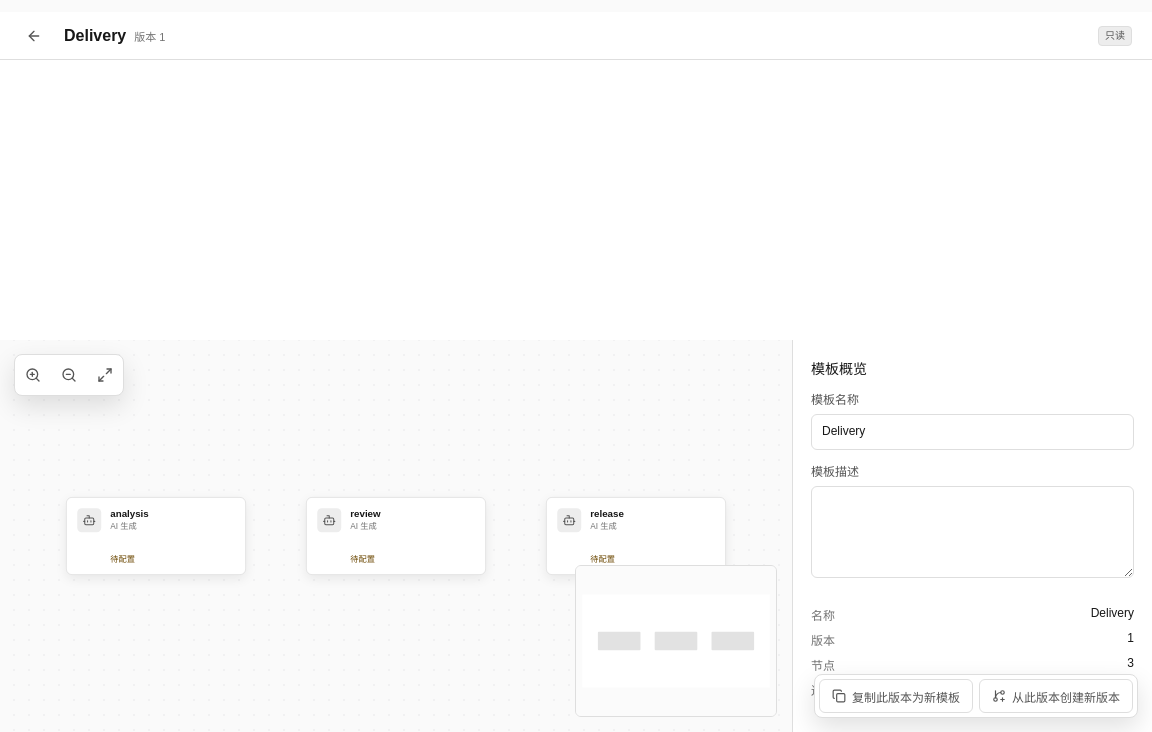
Test: WorkflowTemplateCanvasPage › loads a historical version through the full version query
Expected: the text "只读" is shown, x1=1098 y1=26 x2=1132 y2=46
Click the button with aria-label "analysis，AI 生成" at {"x": 156, "y": 536}, box x1=66 y1=497 x2=246 y2=575
(page scrolled)
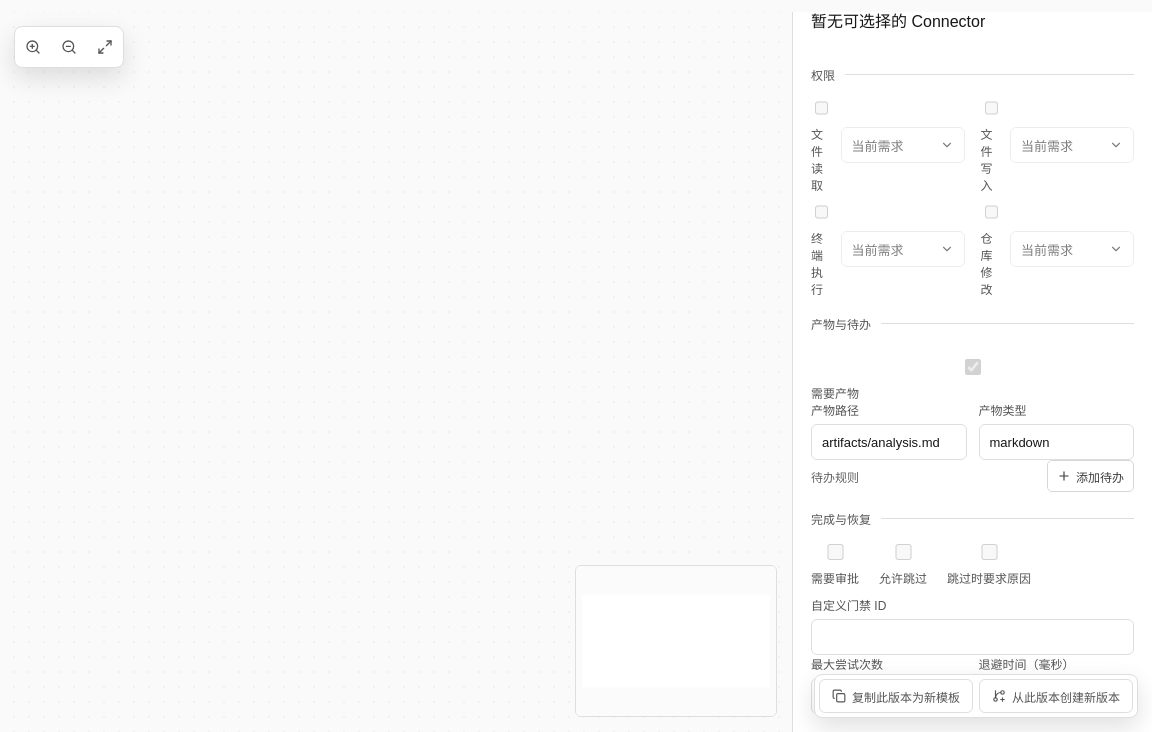
Expected: the checkbox labelled "需要审批" is disabled, x1=815 y1=544 x2=856 y2=560
